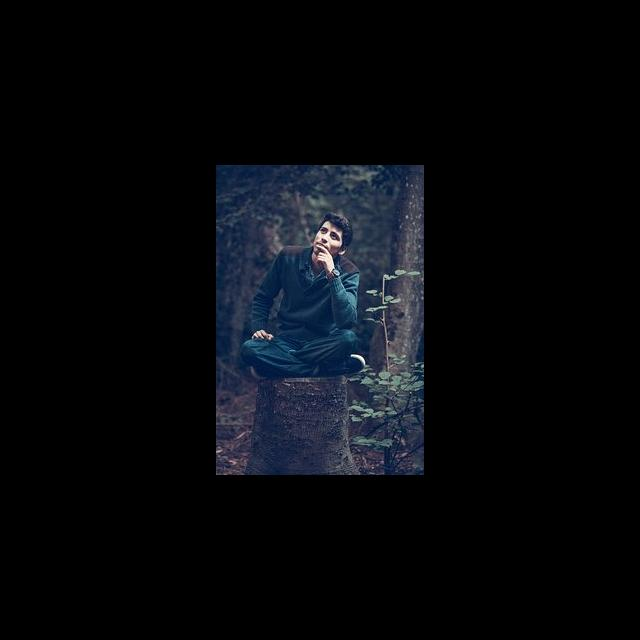male: (273, 194, 369, 268)
